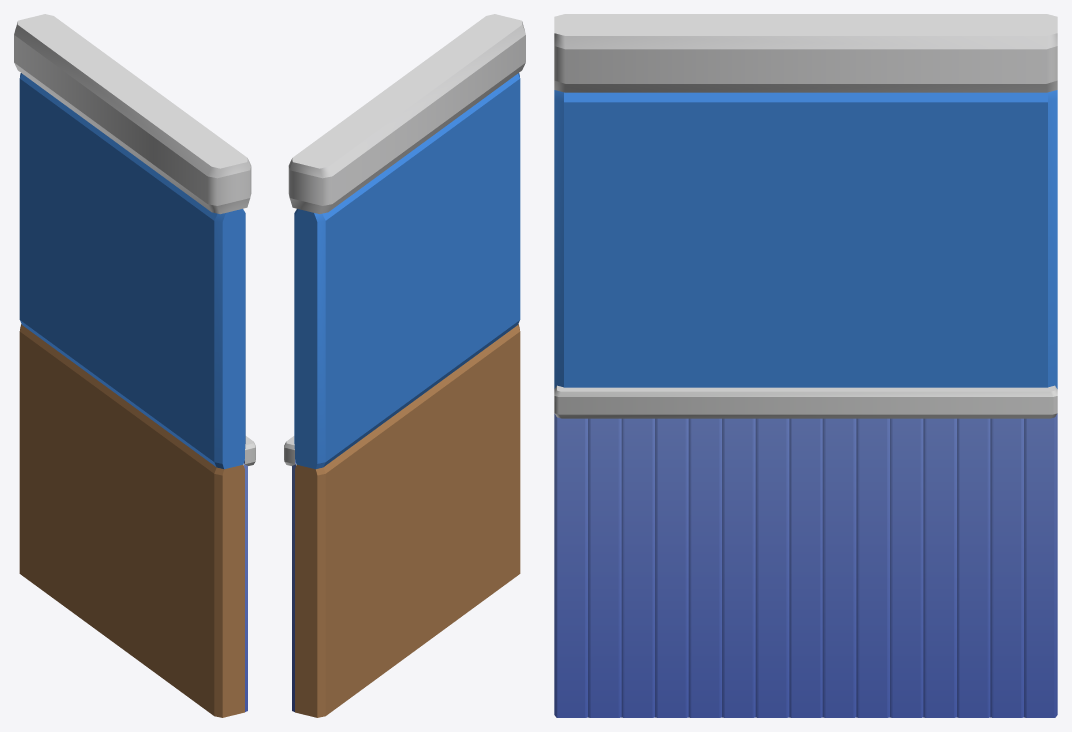
Rendered from Wall_D_9.glb.
3 renders of one model, left to right at view 1: azimuth 30°, elevation 25°; view 2: azimuth 150°, elevation 25°; view 3: azimuth 270°, elevation 25°, orthographic. The views are drawn at different scales.
Visible parts, largest first — view 1: Wall_D_9; view 2: Wall_D_9; view 3: Wall_D_9.
Part boxes in pixels (x1,y1,x2,y2): Wall_D_9: [14, 14, 255, 717]; Wall_D_9: [284, 14, 525, 717]; Wall_D_9: [554, 14, 1057, 717].
Bounding box in the file's own units: 0.2614 × 3 × 2.
1 material, 1 textured.
